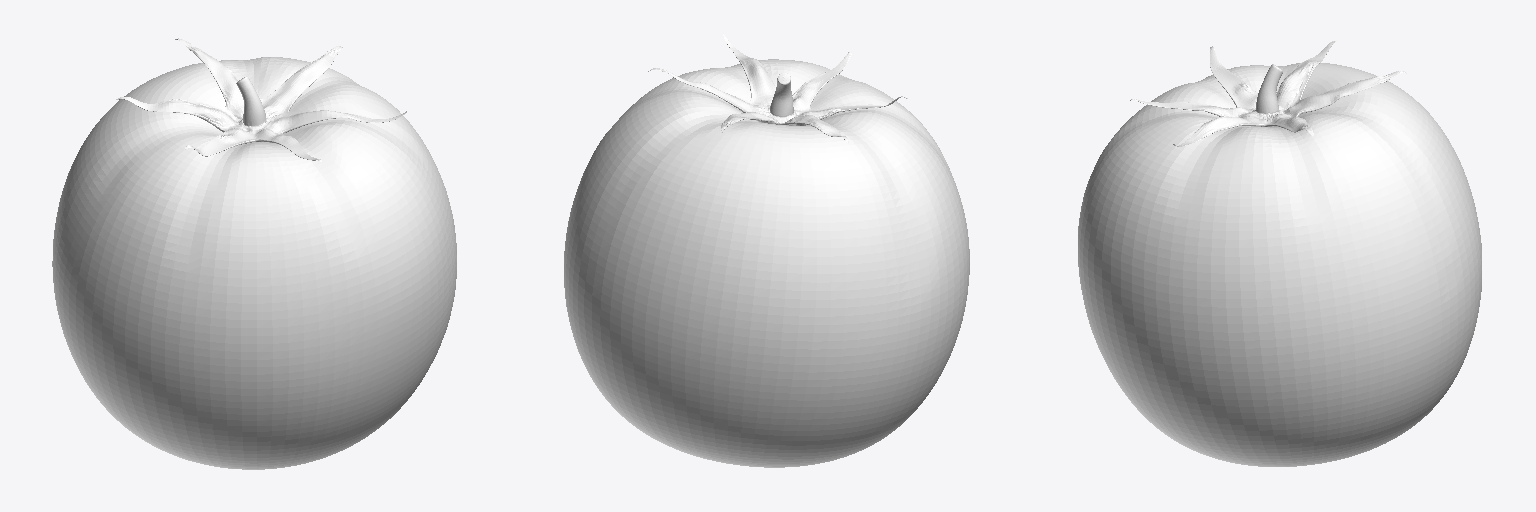
The model's file is Tomato_material.obj.
3 views of the same model, side by side, from view 1: azimuth 30°, elevation 25°; view 2: azimuth 150°, elevation 25°; view 3: azimuth 270°, elevation 25° (orthographic).
Parts seen in each view (by area): view 1: Tomato_material_tomato_part_03.001; view 2: Tomato_material_tomato_part_03.001; view 3: Tomato_material_tomato_part_03.001.
Part boxes in pixels (left/top/right/bottom): Tomato_material_tomato_part_03.001: left=52, top=38, right=456, bottom=469; Tomato_material_tomato_part_03.001: left=564, top=33, right=969, bottom=467; Tomato_material_tomato_part_03.001: left=1078, top=40, right=1481, bottom=466.
Size of the model in its own units: 2 by 2 by 2.